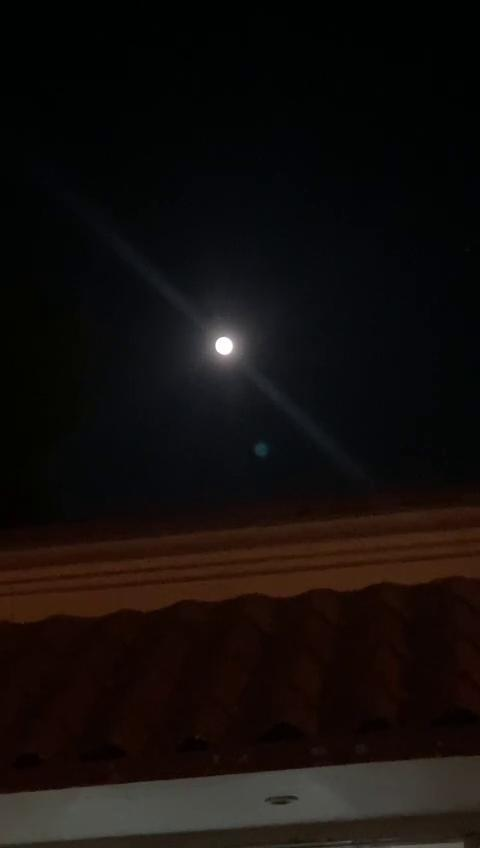moon: (215, 338, 239, 360)
